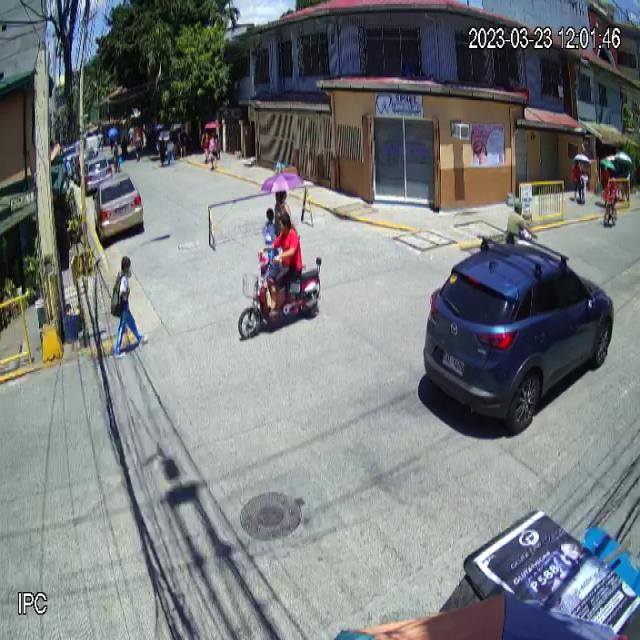Car: (420, 230, 616, 442)
